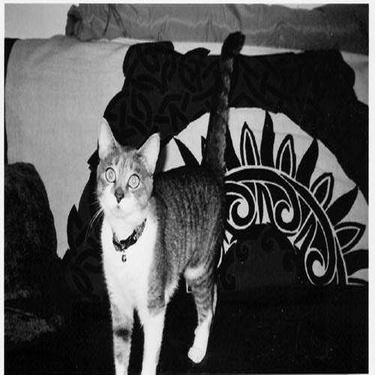cat: (83, 6, 246, 373)
